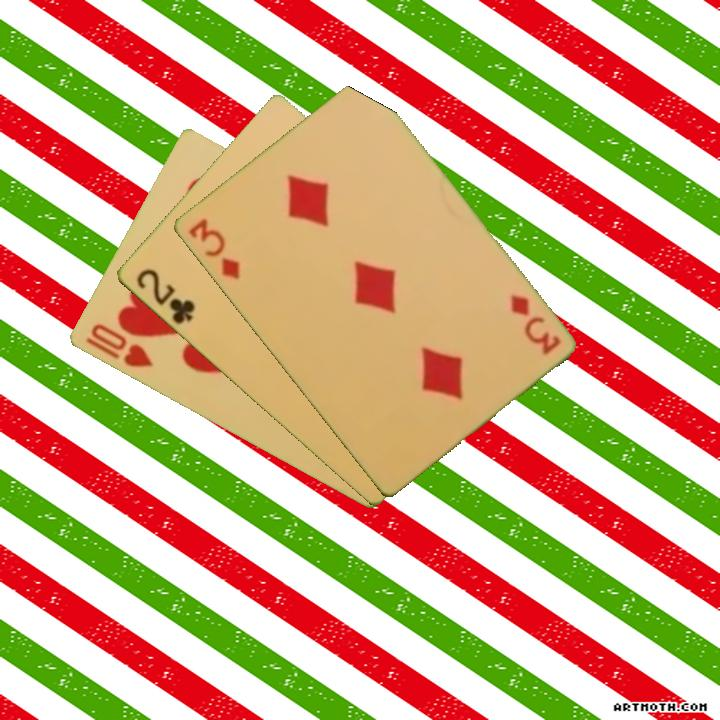10h: (81, 320, 156, 371)
2c: (132, 265, 198, 328)
3d: (184, 214, 242, 283), (506, 290, 563, 358)
